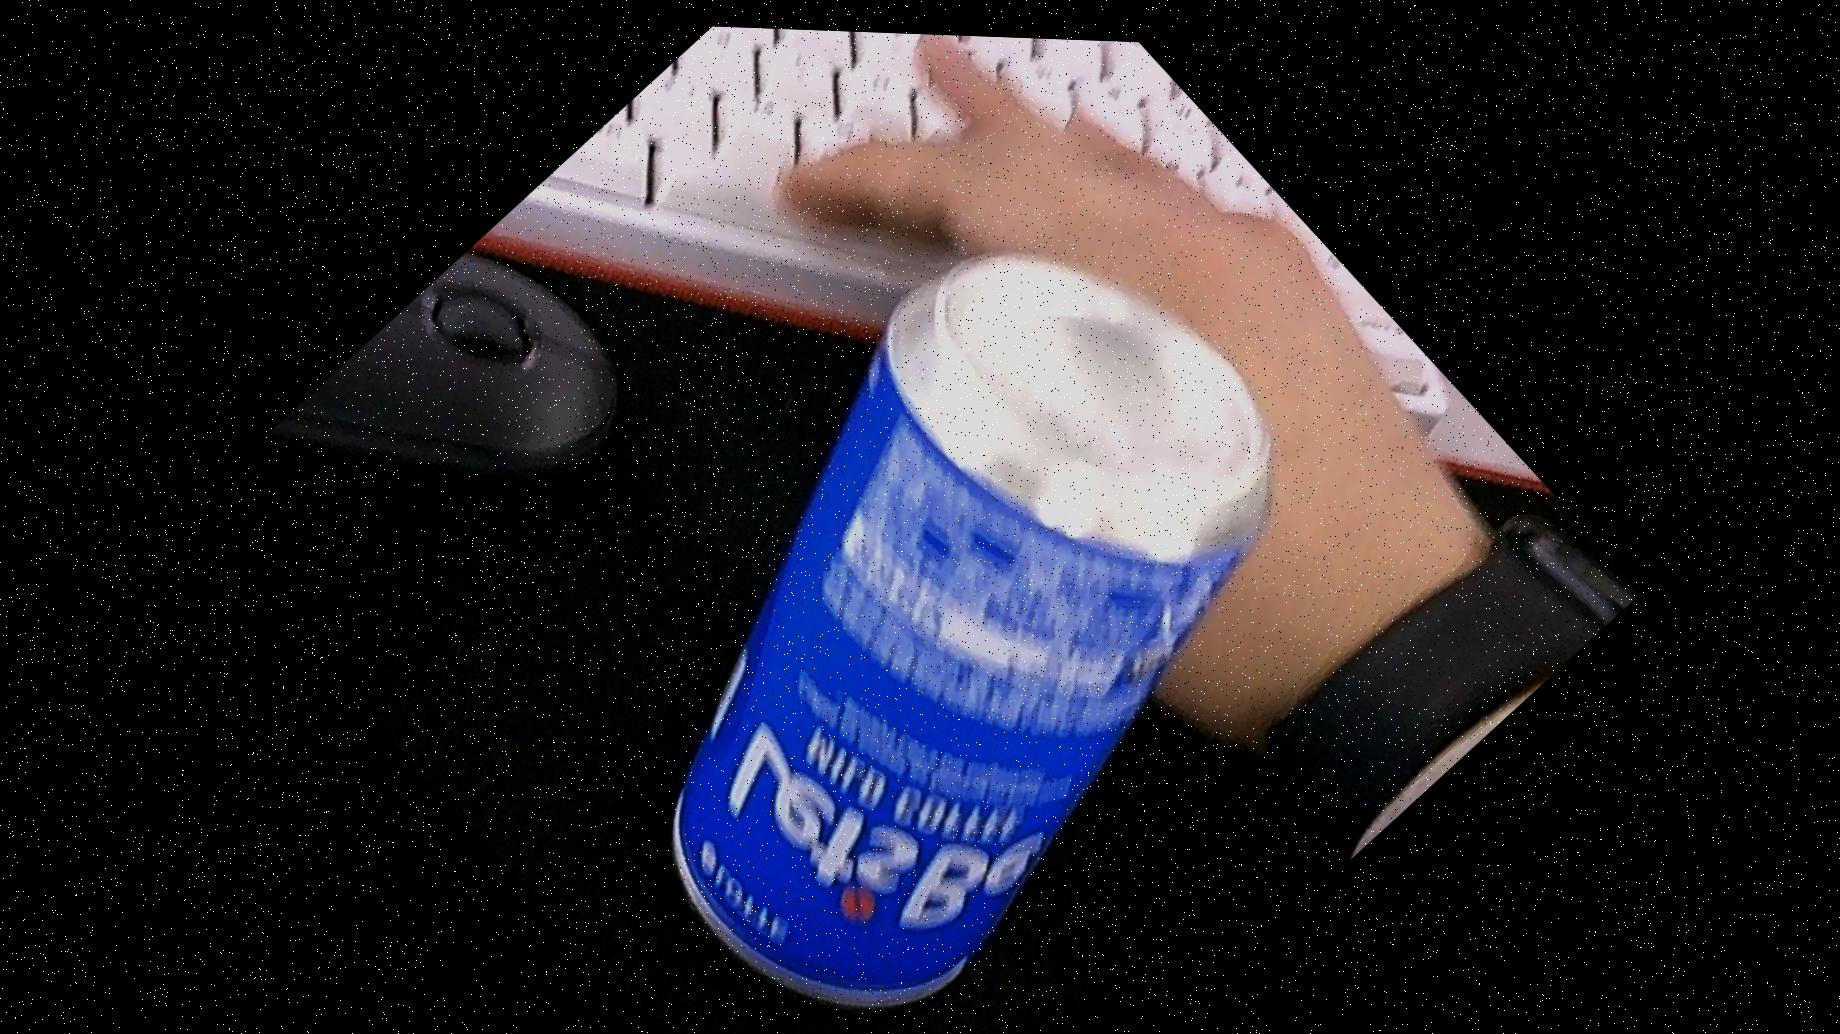letsbe: (476, 138, 1415, 1034)
